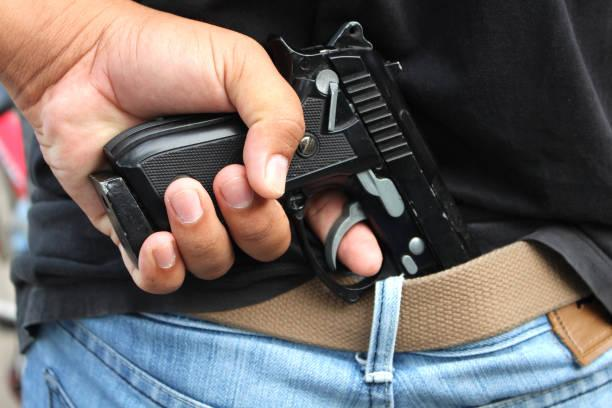weapon: (86, 16, 485, 285)
